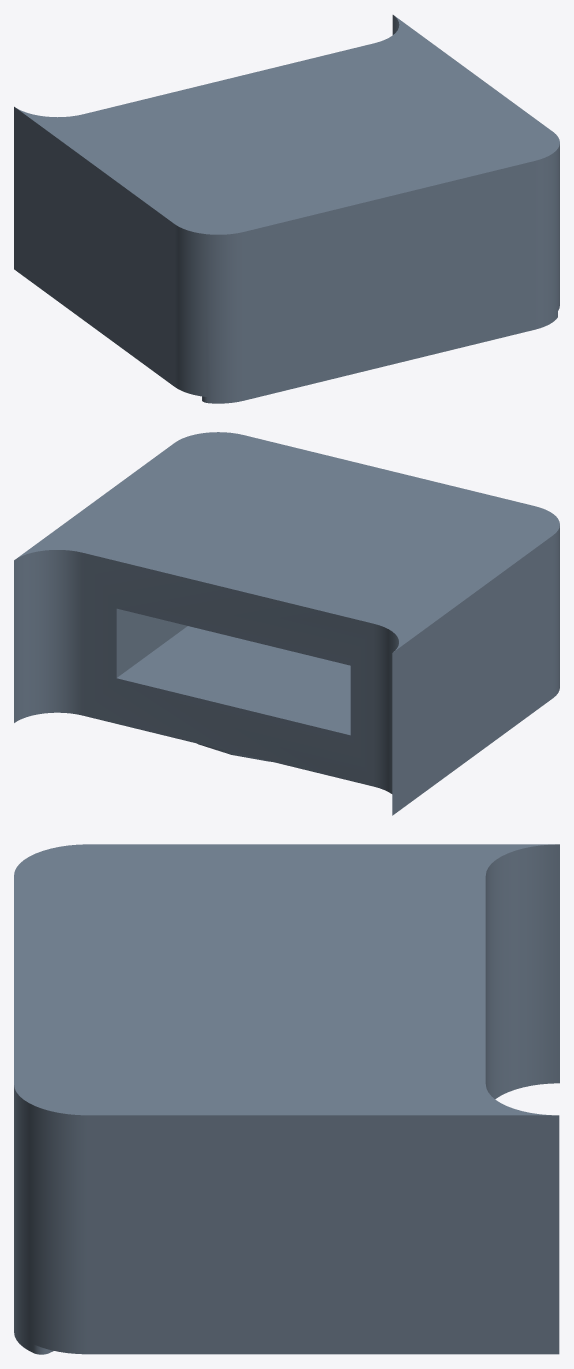
Rendered from original-1_1.obj.
The picture shows the model from 3 angles, top to bottom: view 1: azimuth 30°, elevation 25°; view 2: azimuth 150°, elevation 25°; view 3: azimuth 270°, elevation 25°; orthographic projection. The views are drawn at different scales.
Size of the model in its own units: 0.4275 by 0.1823 by 0.3639.
